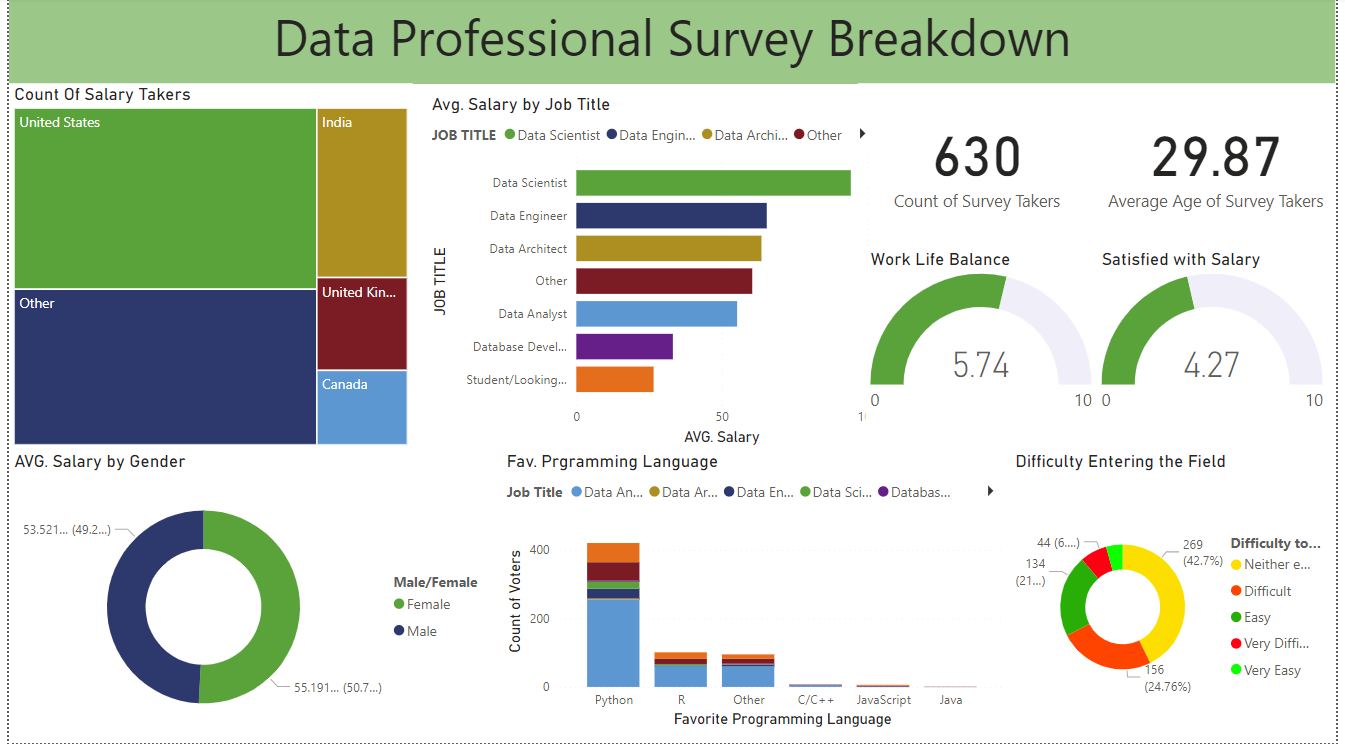

Layout of this report page (visuals, bound fields, positions):
{"tool":"powerbi","page":{"name":"Page 1","canvas":[1280,720],"ordinal":0},"visuals":[{"type":"textbox","box":[0,0,1280.3,84],"z":0},{"type":"card","fields":{"Values":["Count(Data Professional Survey.Unique ID)"]},"box":[819.2,83.7,230.5,149.6],"z":1000},{"type":"card","fields":{"Values":["Avg(Data Professional Survey.Q10 - Current Age)"]},"box":[1049.7,83.7,230.5,149.6],"z":2000},{"type":"barChart","title":"Avg. Salary by Job Title","fields":{"Category":["Data Professional Survey.Q1 - Which Title Best Fits your Current Role?.1"],"Y":["Avg(Data Professional Survey.AVG. Salary)"],"Series":["Data Professional Survey.Q1 - Which Title Best Fits your Current Role?.1"]},"box":[403.4,93.3,440.5,344.4],"z":3000},{"type":"columnChart","title":"Fav. Prgramming Language","fields":{"Category":["Data Professional Survey.Q5 - Favorite Programming Language.1"],"Y":["CountNonNull(Data Professional Survey.Unique ID)"],"Series":["Data Professional Survey.Q1 - Which Title Best Fits your Current Role?.1"]},"box":[474.8,437.7,491.3,271.7],"z":4000},{"type":"treemap","title":"Count Of Salary Takers","fields":{"Group":["Data Professional Survey.Q11 - Which Country do you live in?.1"],"Values":["CountNonNull(Data Professional Survey.Q11 - Which Country do you live in?.1)"]},"box":[0,83.7,389.7,354],"z":5000},{"type":"gauge","title":"Satisfied with Salary","fields":{"Y":["Avg(Data Professional Survey.Q6 - How Happy are you in your Current Position with the following? (Salary))"],"MinValue":["Min(Data Professional Survey.Q6 - How Happy are you in your Current Position with the following? (Salary))"],"MaxValue":["Max(Data Professional Survey.Q6 - How Happy are you in your Current Position with the following? (Salary))"]},"box":[1049.7,242.9,223.7,168.8],"z":6000},{"type":"gauge","title":"Work Life Balance","fields":{"Y":["Avg(Data Professional Survey.Q6 - How Happy are you in your Current Position with the following? (Work/Life Balance))"],"MinValue":["Min(Data Professional Survey.Q6 - How Happy are you in your Current Position with the following? (Work/Life Balance))"],"MaxValue":["Max(Data Professional Survey.Q6 - How Happy are you in your Current Position with the following? (Work/Life Balance))1"]},"box":[826.1,242.9,223.7,168.8],"z":7000},{"type":"donutChart","title":"AVG. Salary by Gender","fields":{"Category":["Data Professional Survey.Q9 - Male/Female?"],"Y":["Avg(Data Professional Survey.AVG. Salary)"]},"box":[0,437.7,474.8,282.7],"z":8000},{"type":"donutChart","title":"Difficulty Entering the Field","fields":{"Category":["Data Professional Survey.Q7 - How difficult was it for you to break into Data?"],"Y":["CountNonNull(Data Professional Survey.Q7 - How difficult was it for you to break into Data?)"]},"box":[966,437.7,307.4,282.7],"z":9000}]}

Visuals, with their boxes in screenshot pixels (x1, y1, x2, y2), scaled from the page's 1280x720 canvas onto the 1345x744 screenshot:
textbox: locate(0, 0, 1344, 87)
card - Count(Data Professional Survey.Unique ID): locate(861, 86, 1103, 241)
card - Avg(Data Professional Survey.Q10 - Current Age): locate(1103, 86, 1344, 241)
"Avg. Salary by Job Title" barChart: locate(424, 96, 887, 452)
"Fav. Prgramming Language" columnChart: locate(499, 452, 1015, 733)
"Count Of Salary Takers" treemap: locate(0, 86, 409, 452)
"Satisfied with Salary" gauge: locate(1103, 251, 1338, 425)
"Work Life Balance" gauge: locate(868, 251, 1103, 425)
"AVG. Salary by Gender" donutChart: locate(0, 452, 499, 743)
"Difficulty Entering the Field" donutChart: locate(1015, 452, 1338, 743)
